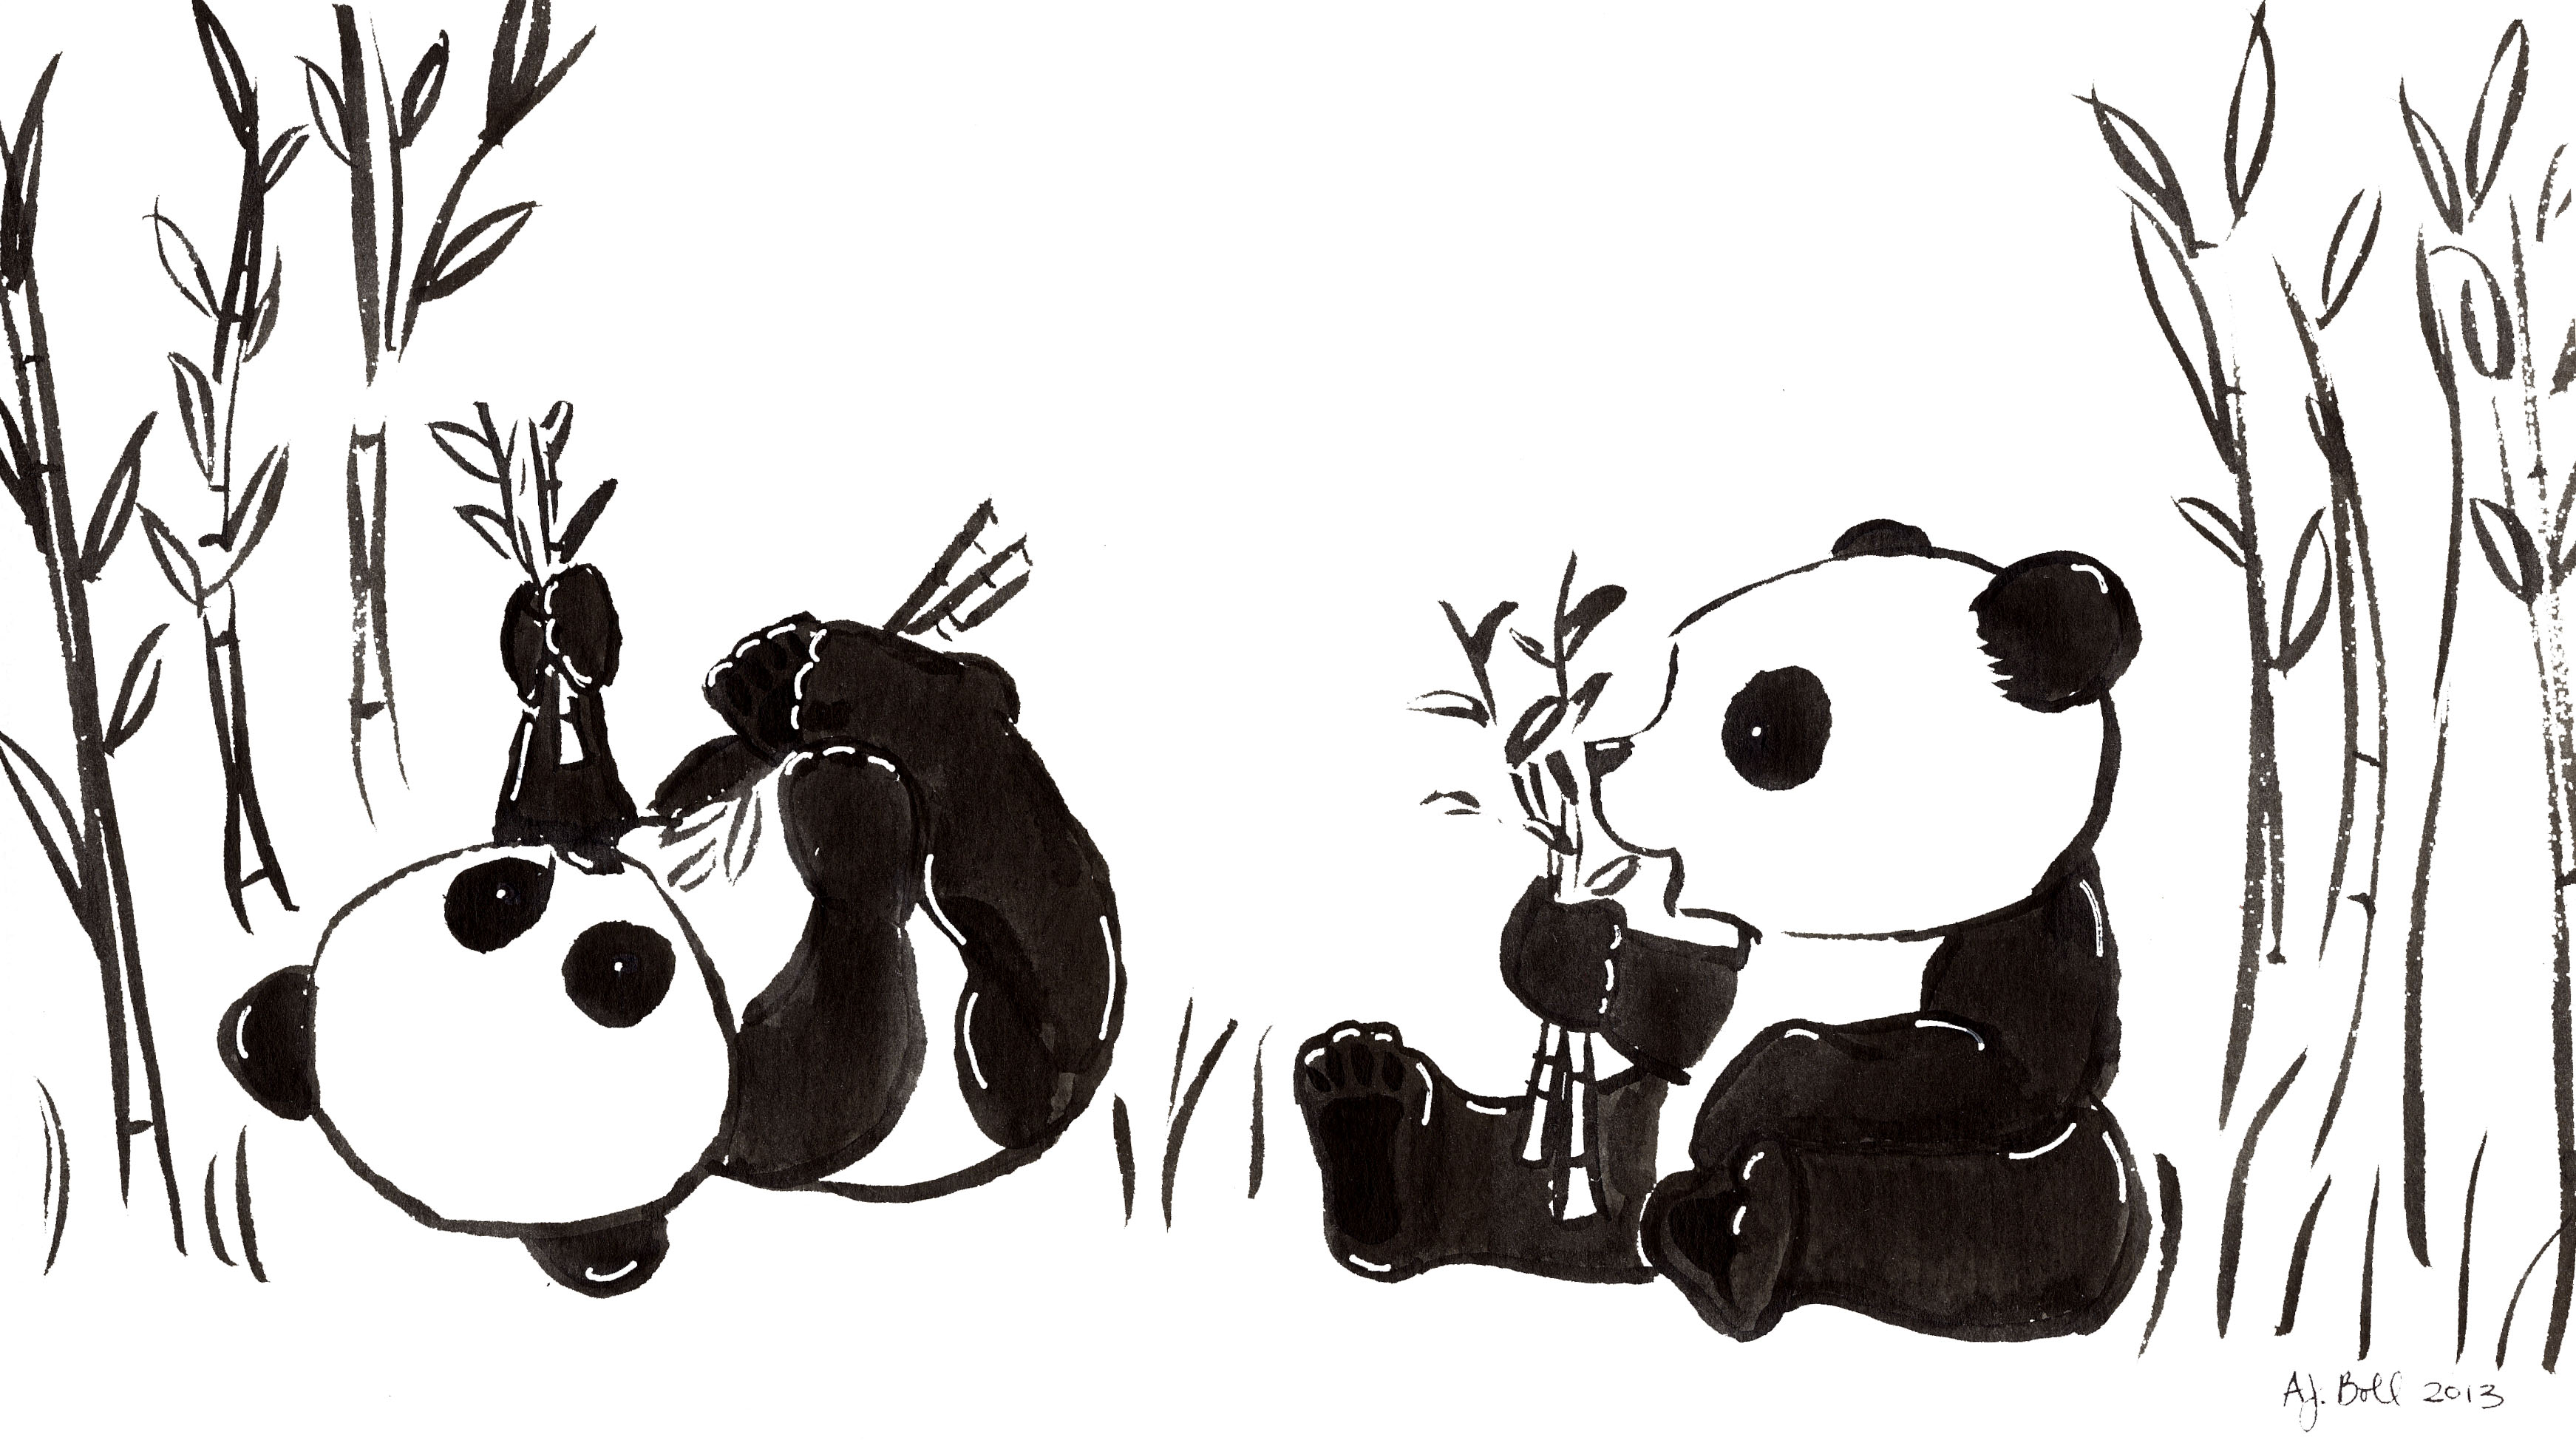panda: (1290, 396, 2185, 1372), (110, 433, 1150, 1204)
